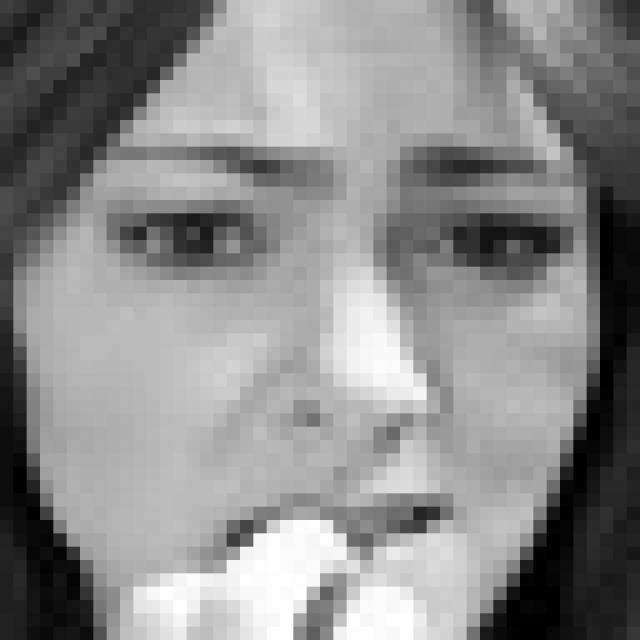fear: (104, 137, 577, 594)
